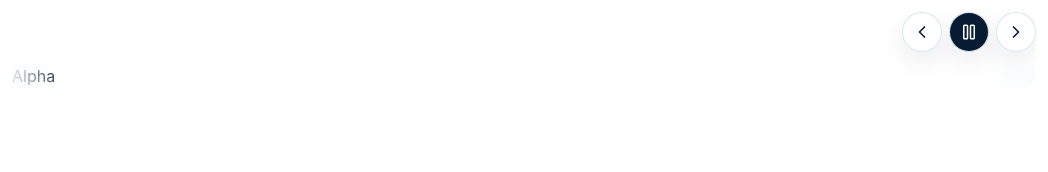
Test: ContinuousCarousel › pause button toggles manual paused state
The width and height of the screenshot is (1048, 172).
Step 1. Click the button named "Pause Manual carousel" → point(969, 32), box [949,12,989,52]
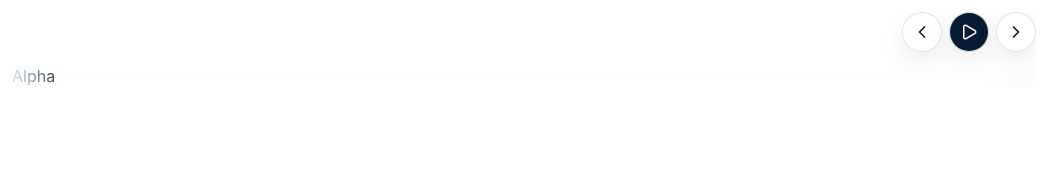
expect the element named "Manual carousel" has attribute data-paused="true": met, box [12,12,1036,88]
Step 2. Click the button named "Play Manual carousel" → point(969, 32), box [949,12,989,52]
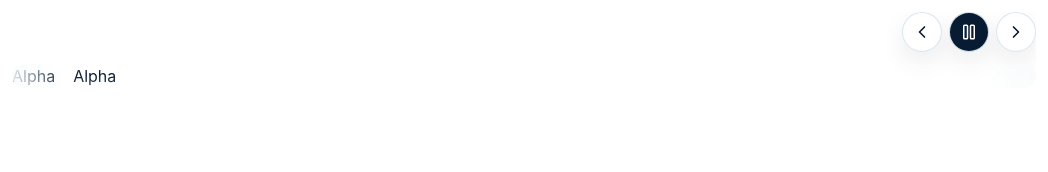
expect the element named "Manual carousel" has attribute data-paused="false": met, box [12,12,1036,88]
